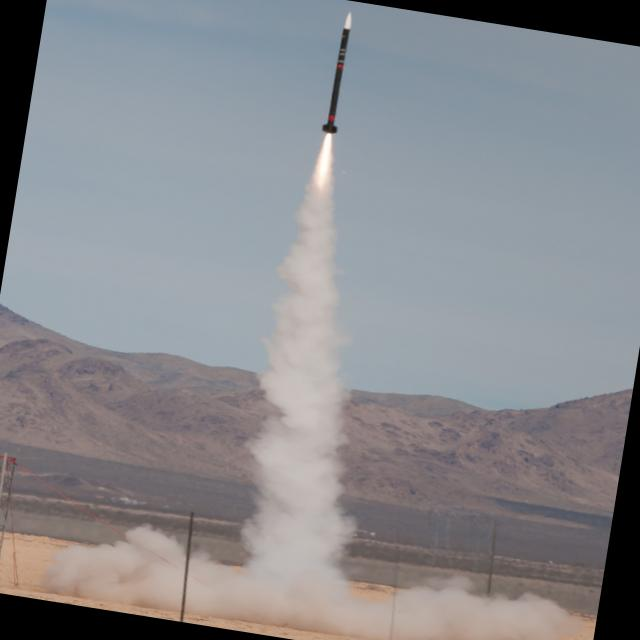rocket: (286, 5, 365, 285)
